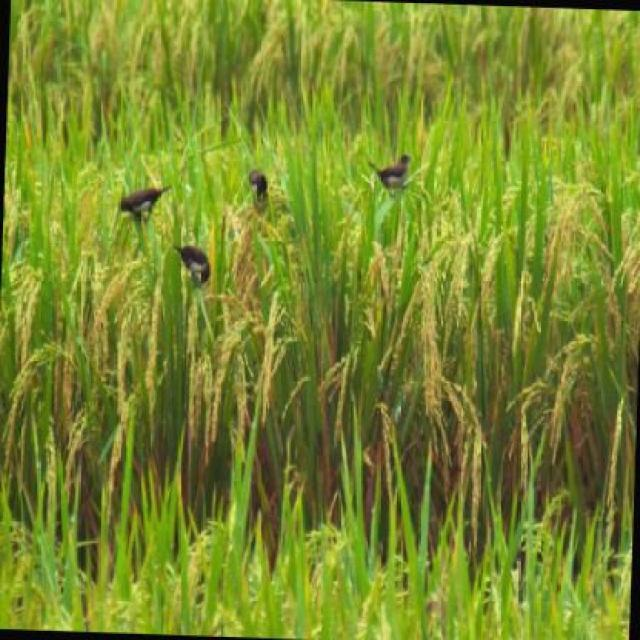Bird: (112, 173, 184, 233), (362, 152, 420, 207), (162, 237, 222, 284), (245, 160, 277, 220)
